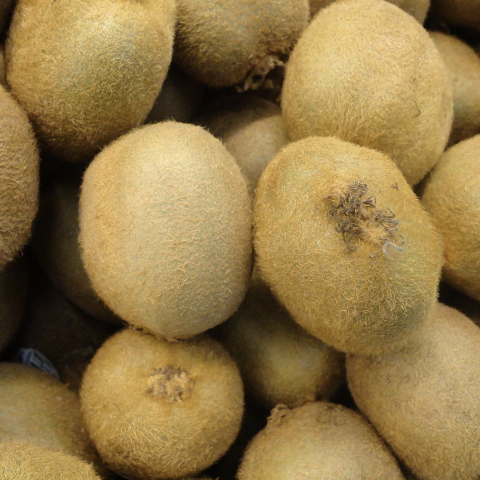kiwi: (59, 120, 275, 359), (241, 123, 447, 368), (275, 0, 460, 186), (74, 309, 247, 480)
